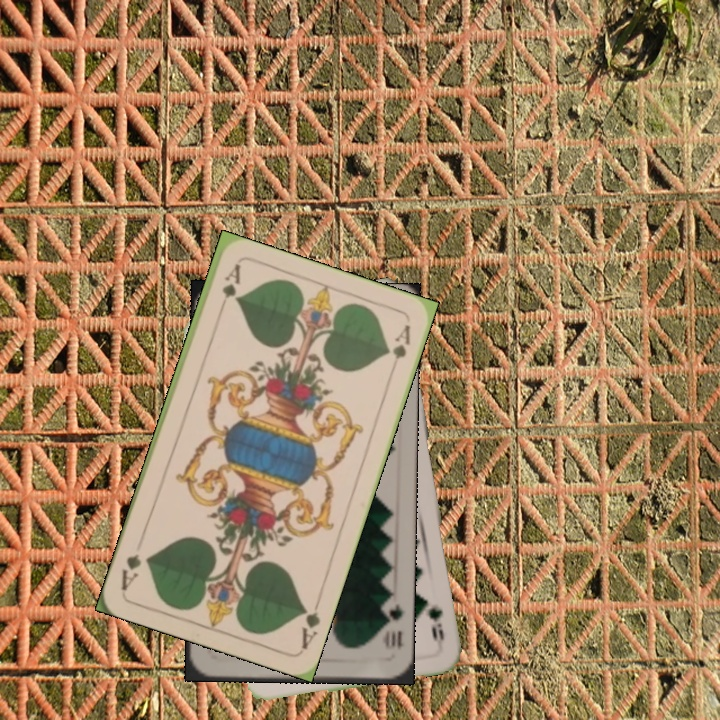G10: (379, 600, 406, 652)
G9: (427, 603, 447, 643)
GA: (214, 261, 243, 318), (296, 594, 324, 653)
